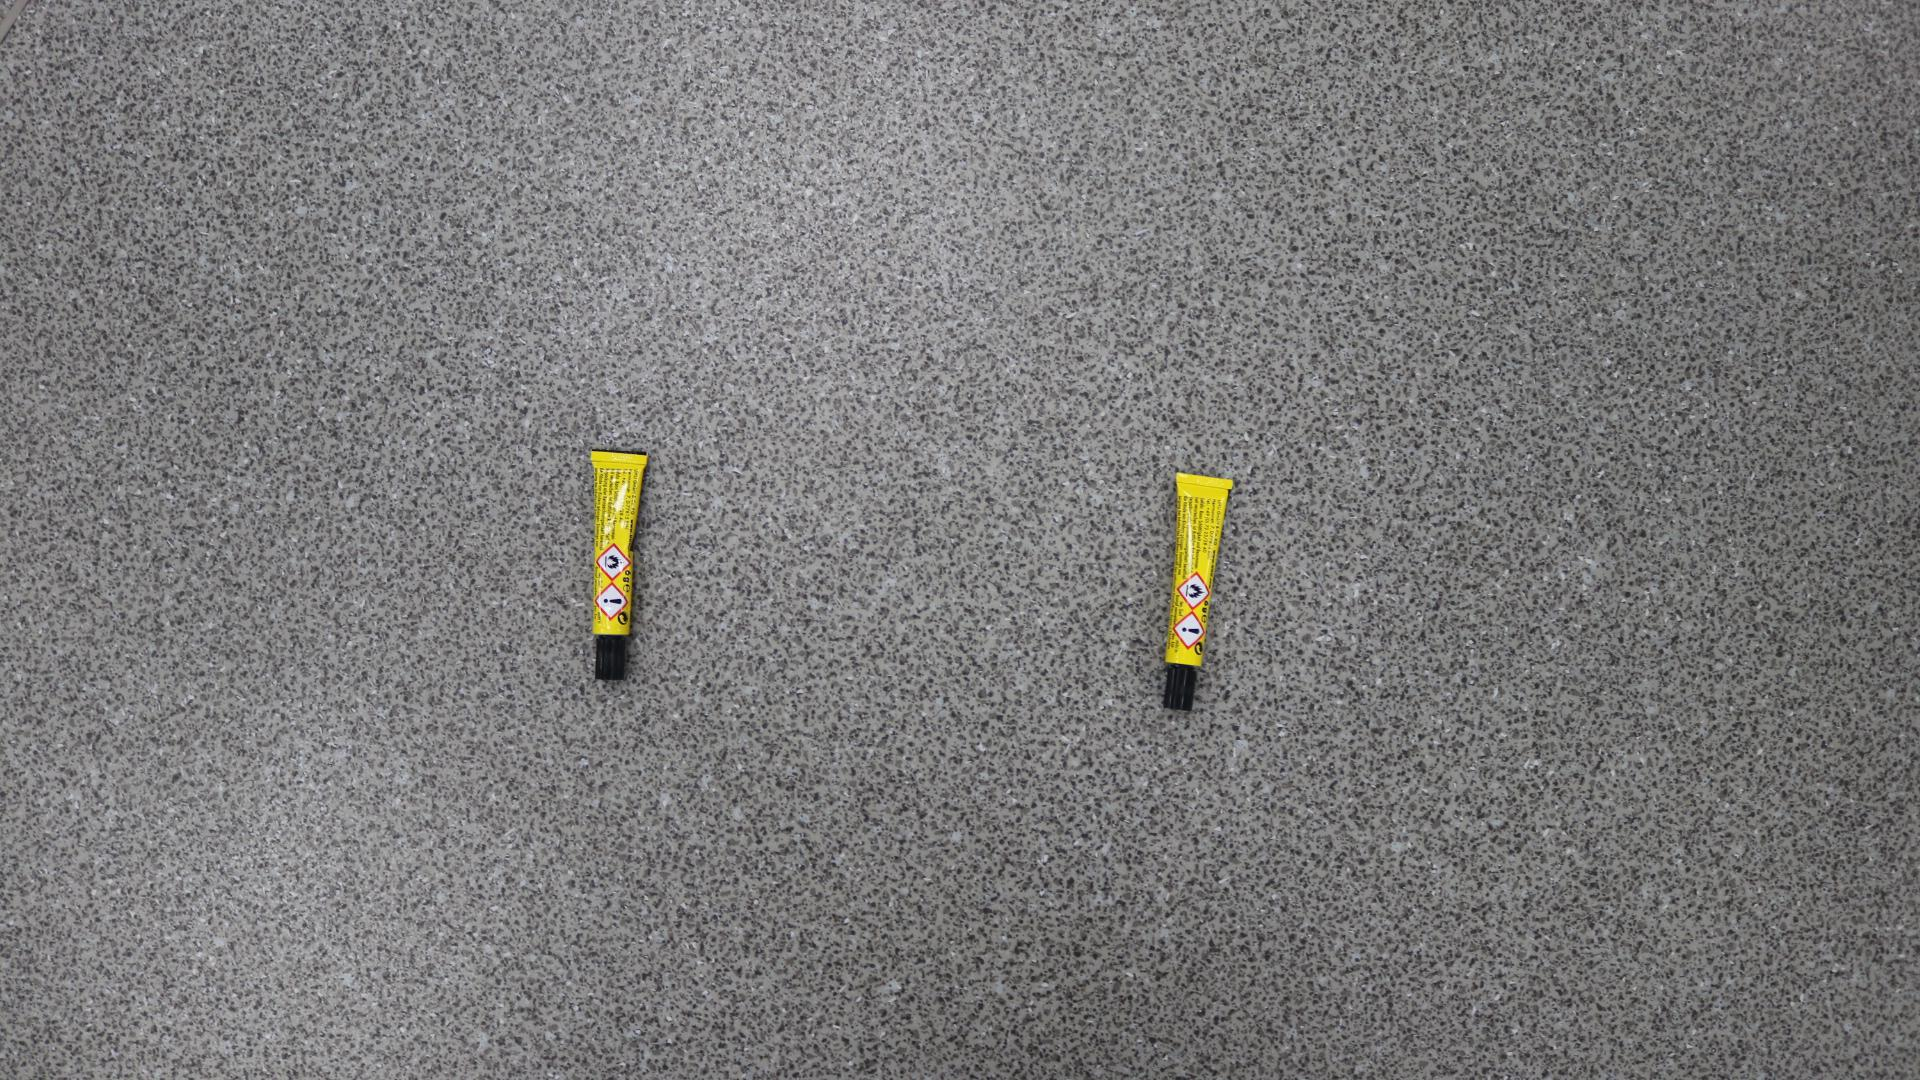Head: (608, 653, 613, 659), (1178, 685, 1184, 690)
Tail: (1199, 478, 1206, 484), (615, 454, 619, 459)
Tube: (1163, 471, 1234, 713), (589, 447, 648, 679)
